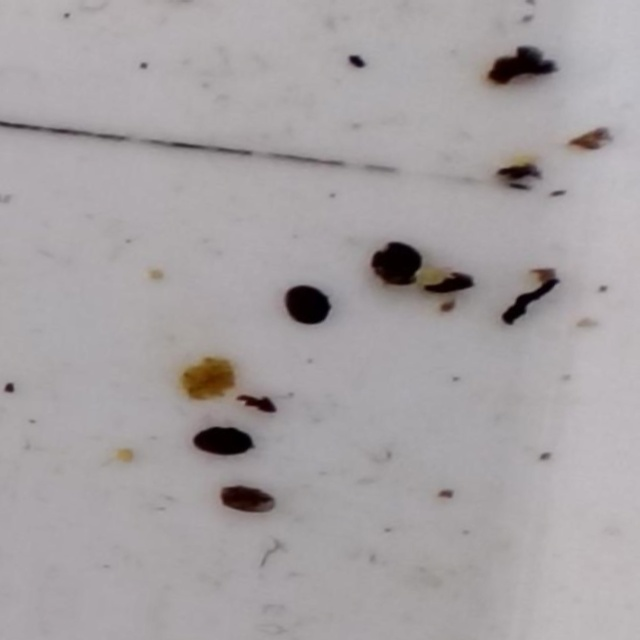varroa: (367, 240, 427, 289), (279, 281, 336, 331), (189, 420, 257, 459)
